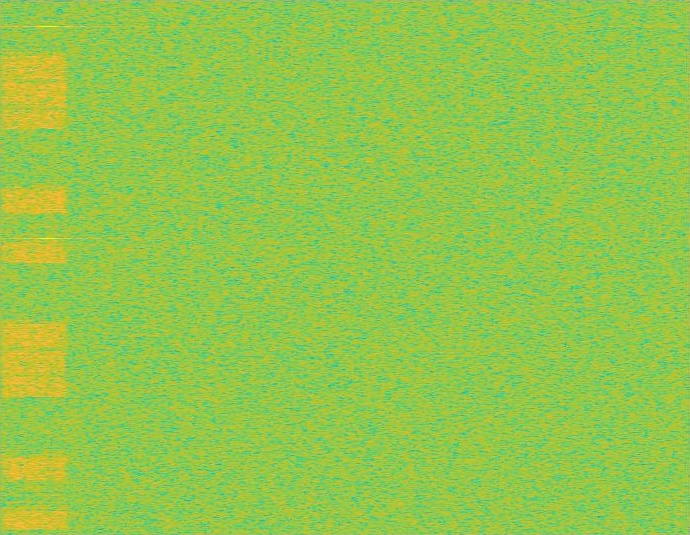LTE: (0, 0, 69, 534)
Radar: (42, 0, 55, 534)
